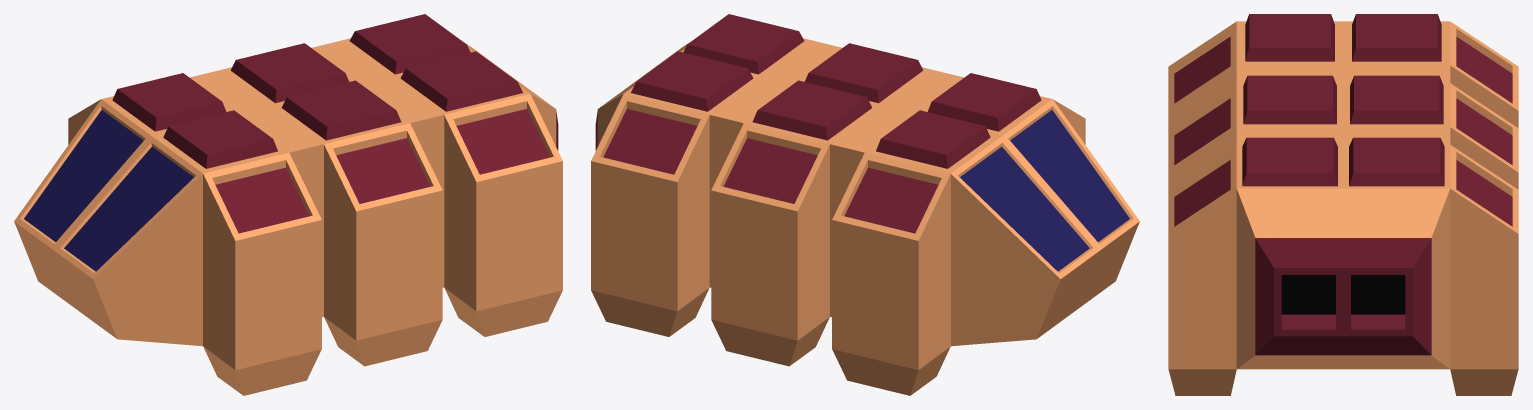
Rendered from Bomber.fbx.
The picture shows the model from 3 angles, left to right: view 1: azimuth 30°, elevation 25°; view 2: azimuth 150°, elevation 25°; view 3: azimuth 270°, elevation 25°; orthographic projection. The views are drawn at different scales.
Parts seen in each view (by area): view 1: bomber; view 2: bomber; view 3: bomber.
Boxes of the visible parts, box(x1,y1,x2,y2) form: bomber: box(14, 14, 562, 395); bomber: box(591, 14, 1139, 395); bomber: box(1168, 14, 1518, 395).
Bounding box in the file's own units: 361 × 158 × 222.
